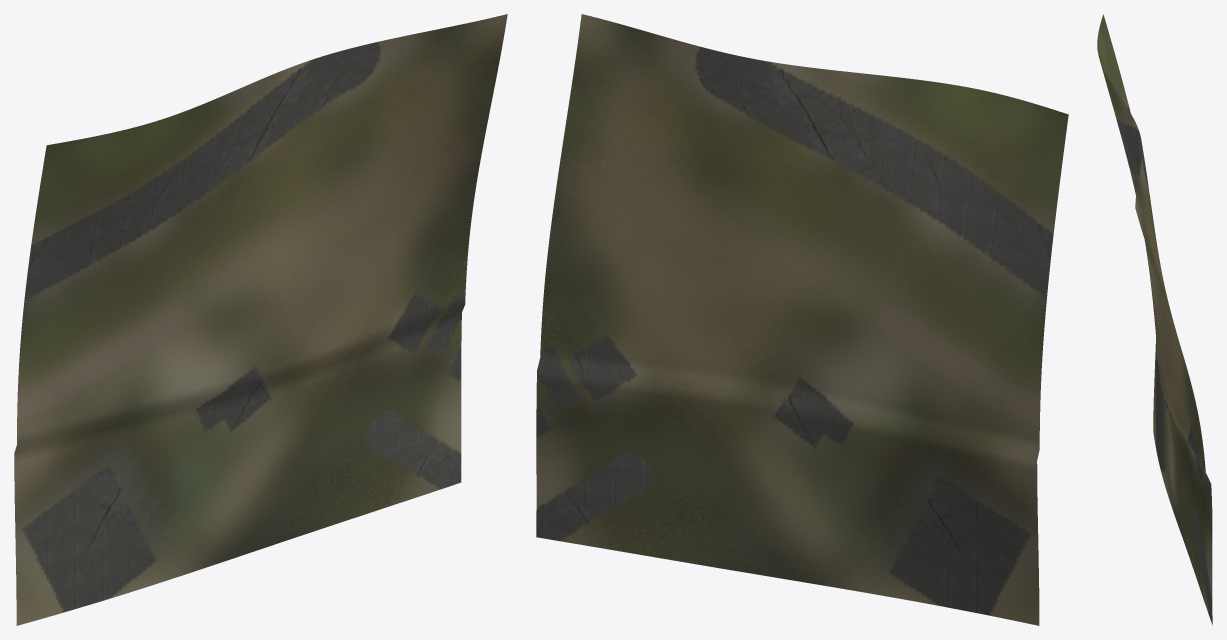
Rendered from ground_core_04_01.obj.
3 renders of one model, left to right at view 1: azimuth 30°, elevation 25°; view 2: azimuth 150°, elevation 25°; view 3: azimuth 270°, elevation 25°, orthographic. The views are drawn at different scales.
Visible parts, largest first — view 1: ground_core_04_01; view 2: ground_core_04_01; view 3: ground_core_04_01.
Part boxes in pixels (x1=…): ground_core_04_01: x1=14, y1=14, x2=507, y2=625; ground_core_04_01: x1=536, y1=14, x2=1068, y2=625; ground_core_04_01: x1=1097, y1=14, x2=1212, y2=624.
Size of the model in its own units: 50 by 50 by 12.53.
Materials: 1 (1 with a texture image).
